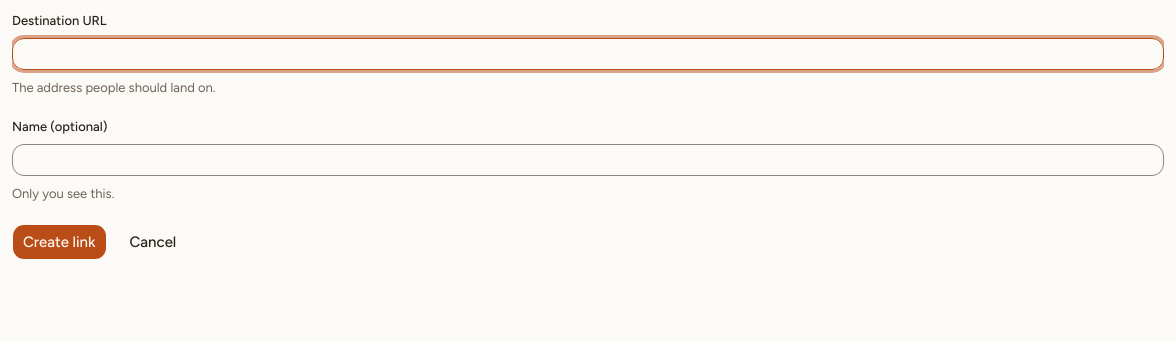
Test: LinkForm › renders link_limit_reached above the form and disables submit
In the field labelled "Destination URL": [588, 54] box [12,38,1164,70], type "https://example.com/a"
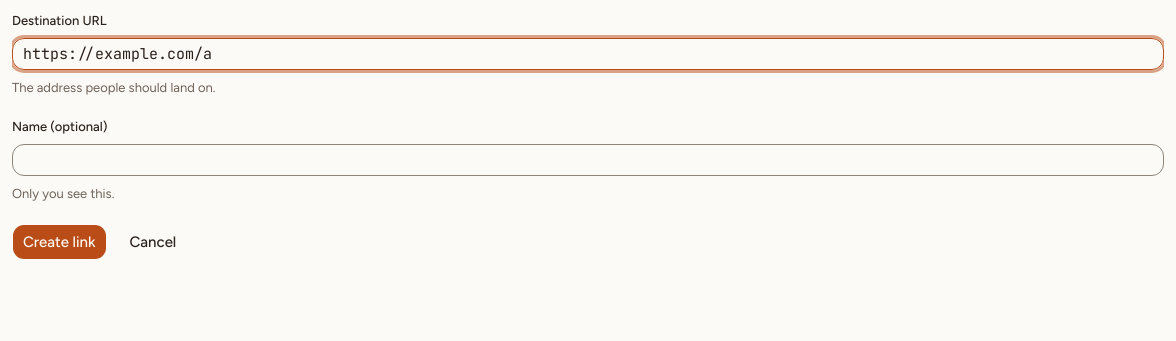
Click the button "Create link": [59, 242] box [12,224,106,260]
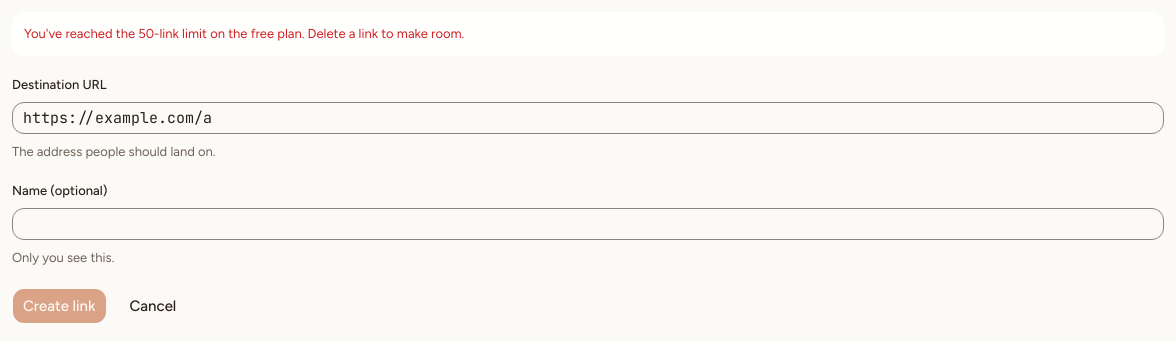
Result: the message shows "You've reached the 50-link limit on the free plan." at [24,26,464,41]
Result: the button "Create link" is disabled at [12,288,106,324]
